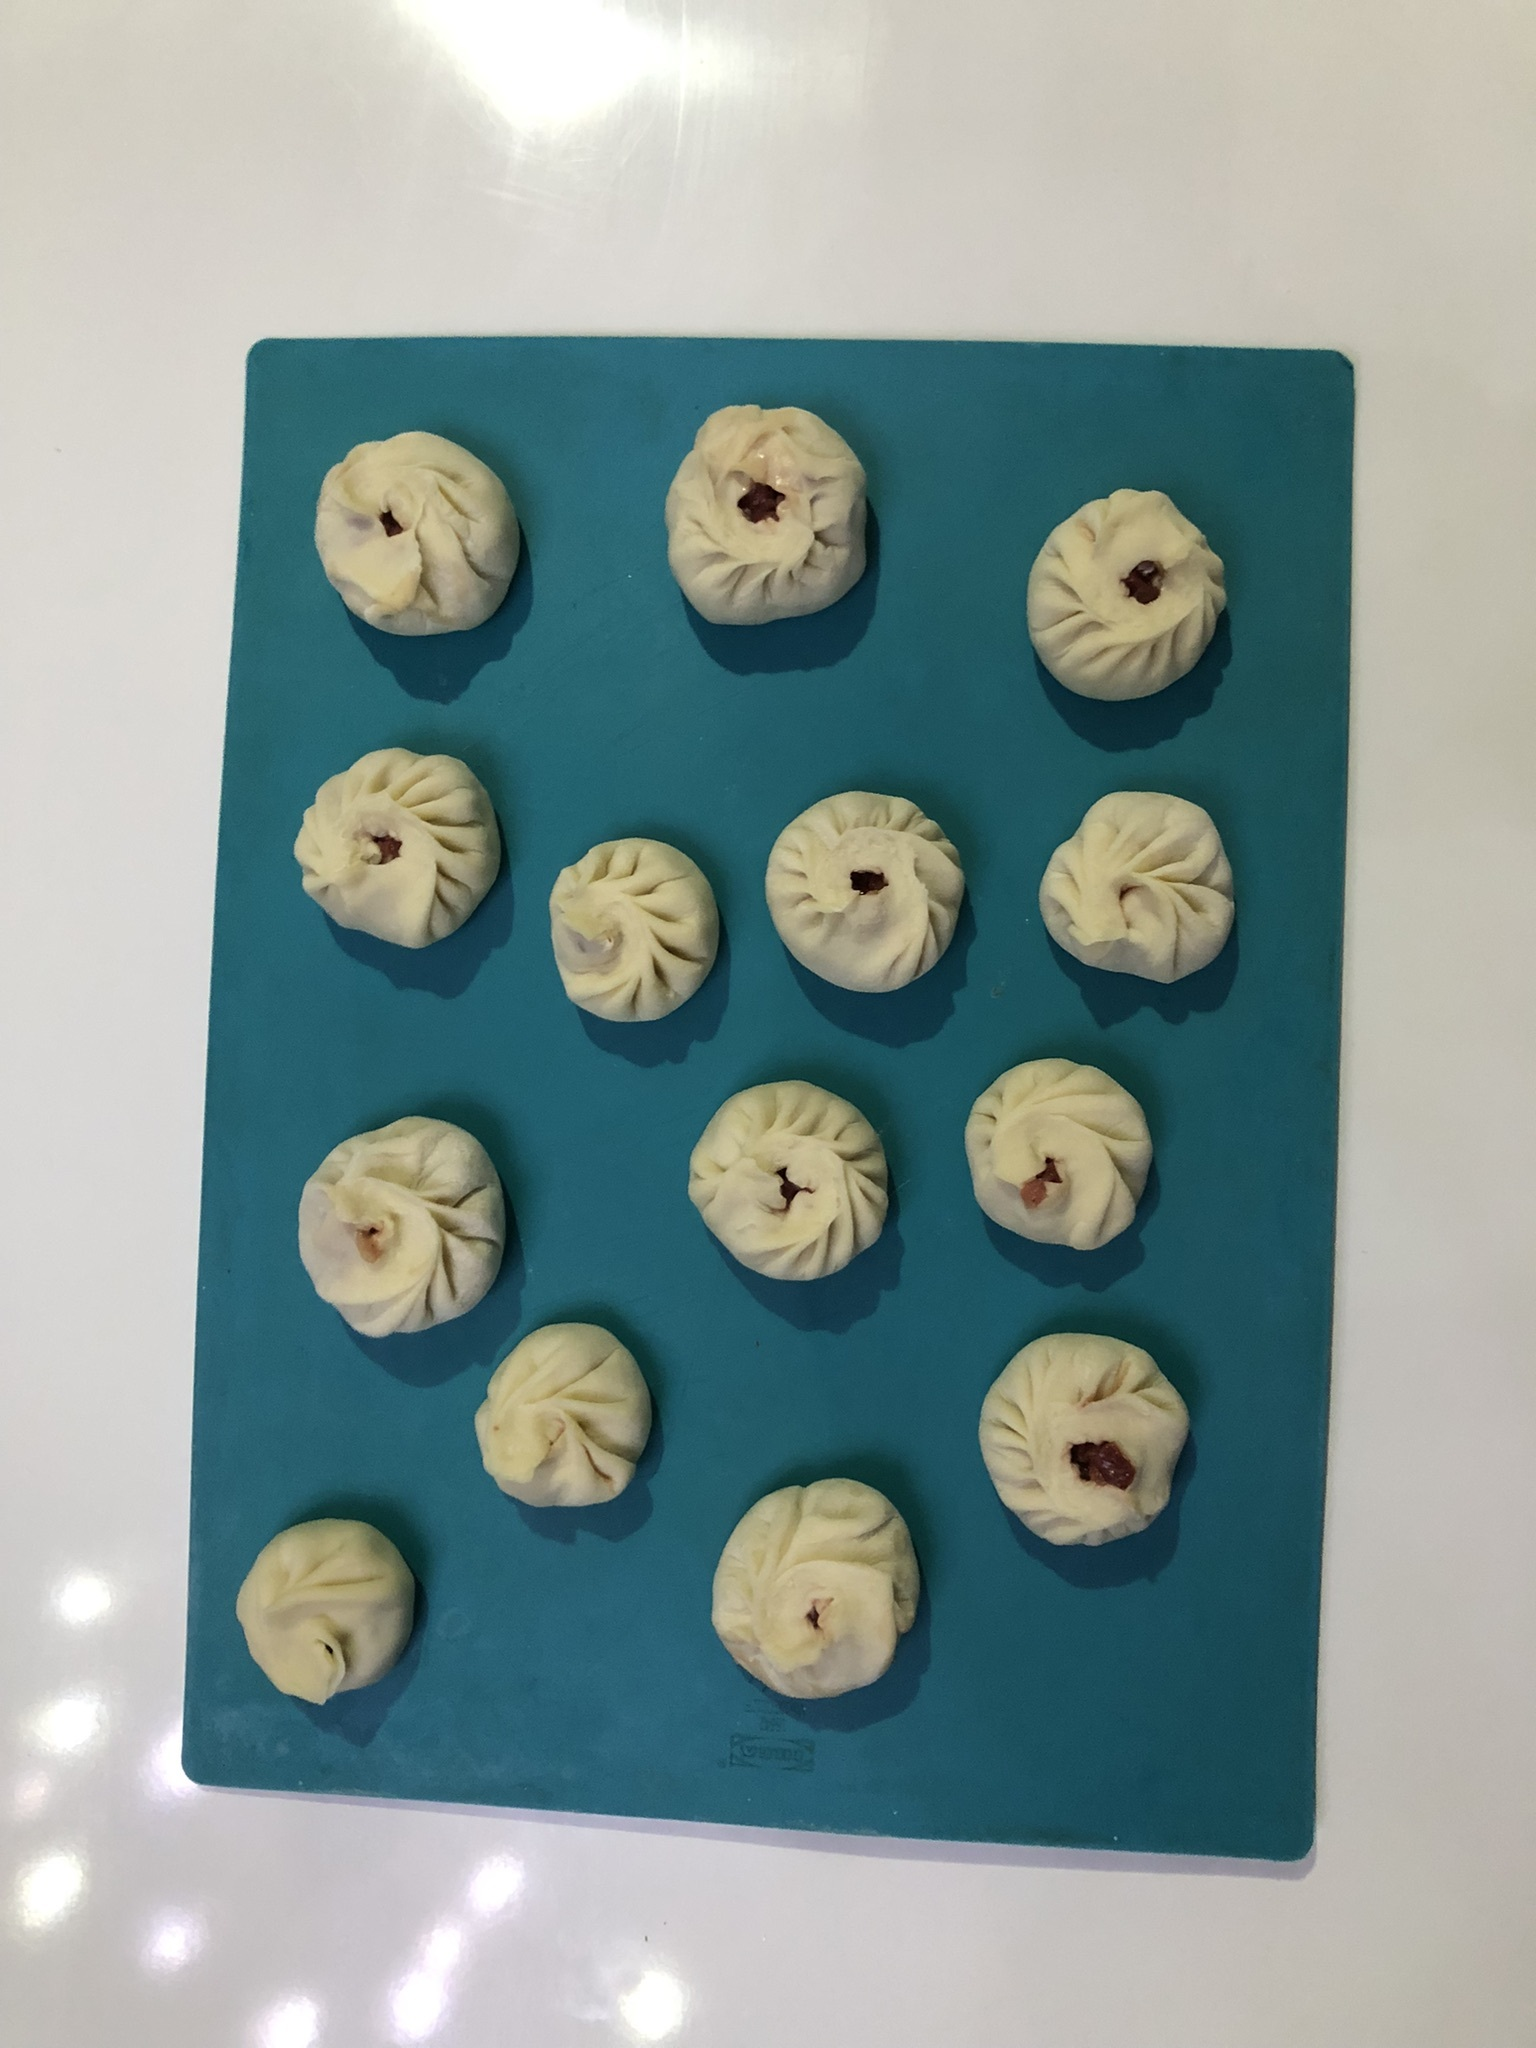buuz: (965, 1322, 1213, 1567), (655, 389, 891, 635), (703, 1463, 939, 1709), (1013, 474, 1246, 719), (284, 1103, 515, 1347), (284, 735, 520, 964), (303, 423, 536, 648), (752, 776, 983, 1000), (678, 1072, 895, 1293), (224, 1506, 449, 1713), (950, 1048, 1168, 1259), (1029, 780, 1241, 989), (461, 1316, 666, 1526), (541, 826, 728, 1039)
